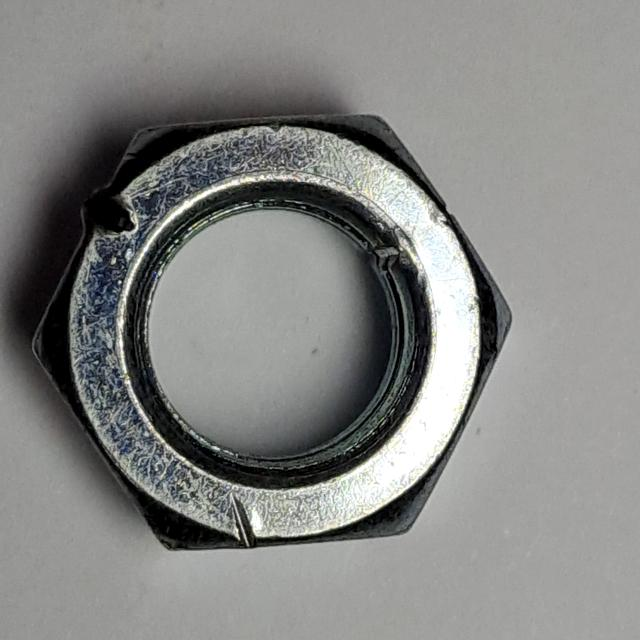Scratches: (21, 102, 533, 567)
